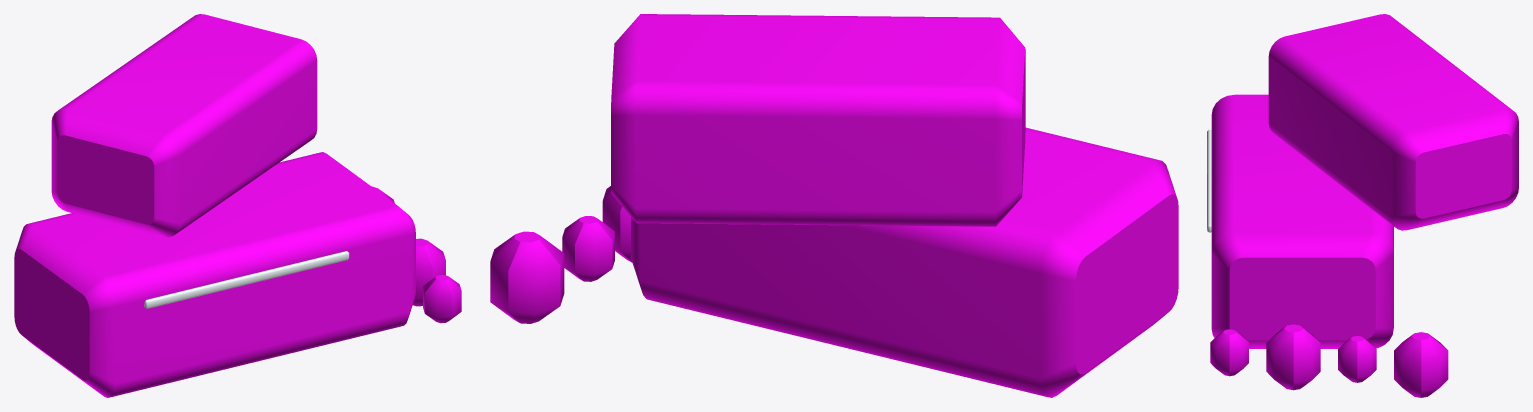
File: objet_graphite.glb
The picture shows the model from 3 angles, left to right: view 1: azimuth 30°, elevation 25°; view 2: azimuth 150°, elevation 25°; view 3: azimuth 270°, elevation 25°; orthographic projection. The views are drawn at different scales.
Visible parts, largest first — view 1: graphite_teinte.002, graphite_reflet.002; view 2: graphite_teinte.002; view 3: graphite_teinte.002, graphite_reflet.002.
Part boxes in pixels (x1,y1,x2,y2): graphite_teinte.002: [14, 14, 461, 397]; graphite_reflet.002: [144, 251, 349, 308]; graphite_teinte.002: [490, 14, 1178, 397]; graphite_teinte.002: [1210, 14, 1518, 397]; graphite_reflet.002: [1207, 129, 1211, 232].
Size of the model in its own units: 0.247 by 0.1375 by 0.1712.
